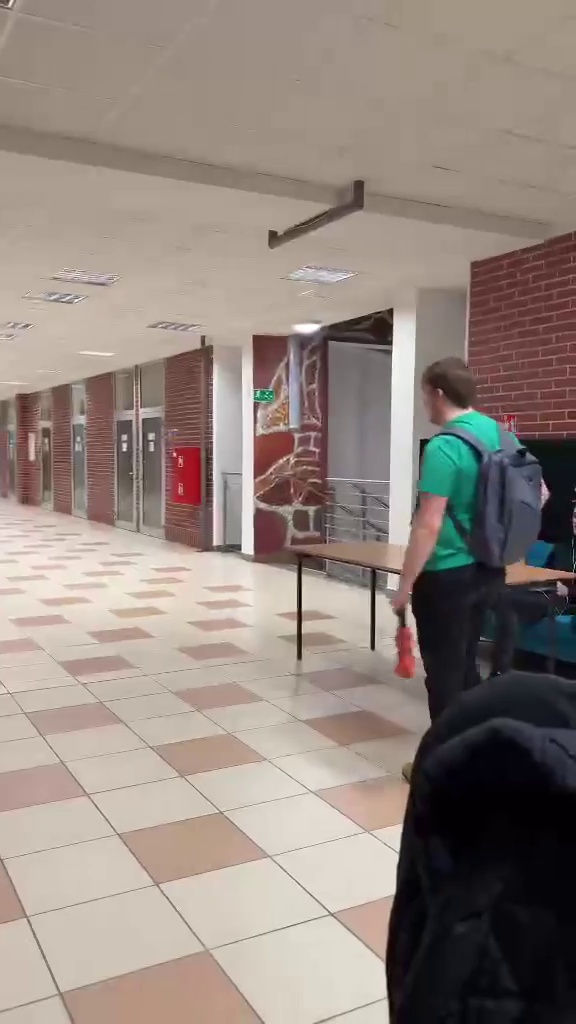no vest: (393, 356, 550, 714)
